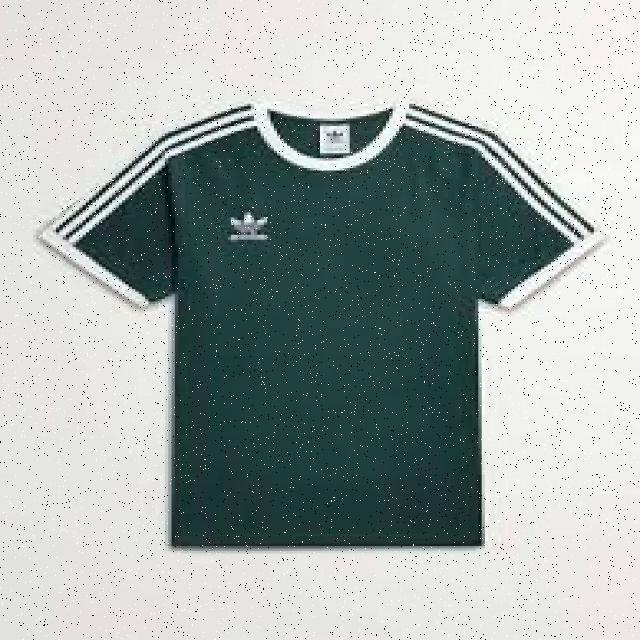Adidas: (229, 208, 270, 245)
